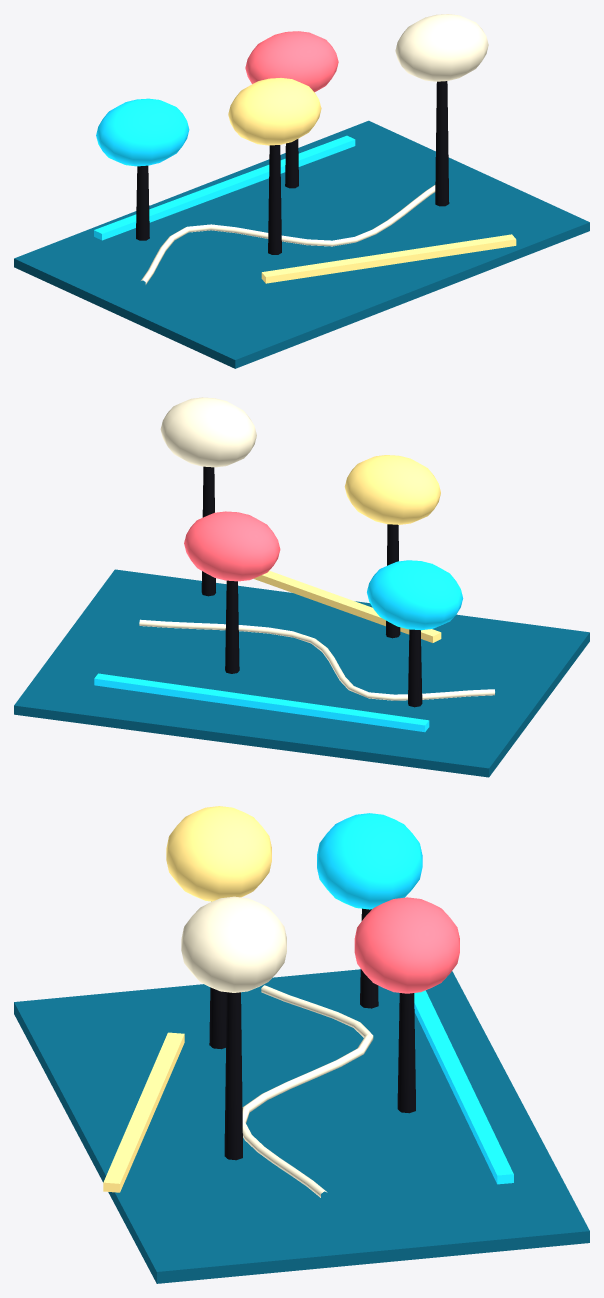
Rendered from field-marker-grove.glb.
The picture shows the model from 3 angles, top to bottom: view 1: azimuth 30°, elevation 25°; view 2: azimuth 150°, elevation 25°; view 3: azimuth 270°, elevation 25°; orthographic projection. The views are drawn at different scales.
Parts seen in each view (by area): view 1: field-shadow-pad, marker-canopy-3, marker-canopy-0, marker-canopy-1, marker-canopy-2, field-ribbon-b, field-ribbon-a, field-path-curve, marker-stem-3, marker-stem-1, marker-stem-0, marker-stem-2; view 2: field-shadow-pad, marker-canopy-2, marker-canopy-1, marker-canopy-3, marker-canopy-0, field-ribbon-a, field-path-curve, field-ribbon-b, marker-stem-2, marker-stem-0, marker-stem-3, marker-stem-1; view 3: field-shadow-pad, marker-canopy-2, marker-canopy-3, marker-canopy-1, marker-canopy-0, field-ribbon-a, field-ribbon-b, field-path-curve, marker-stem-3, marker-stem-2, marker-stem-1, marker-stem-0.
Part boxes in pixels (box(x1,y1,x2,y2)): field-shadow-pad: box(14, 120, 589, 368); marker-canopy-3: box(395, 14, 488, 81); marker-canopy-0: box(96, 98, 189, 166); marker-canopy-1: box(228, 78, 321, 145); marker-canopy-2: box(245, 31, 338, 92); field-ribbon-b: box(261, 234, 516, 283); field-ribbon-a: box(94, 135, 355, 240); field-path-curve: box(141, 185, 435, 284); marker-stem-3: box(435, 81, 449, 206); marker-stem-1: box(268, 145, 281, 254); marker-stem-0: box(136, 165, 149, 240); marker-stem-2: box(285, 139, 298, 188); field-shadow-pad: box(14, 569, 589, 777); marker-canopy-2: box(184, 511, 280, 581); marker-canopy-1: box(344, 455, 440, 524); marker-canopy-3: box(160, 397, 256, 467); marker-canopy-0: box(367, 560, 463, 630); field-ribbon-a: box(94, 673, 429, 732); field-path-curve: box(139, 619, 494, 700); field-ribbon-b: box(253, 570, 441, 642); marker-stem-2: box(225, 580, 239, 673); marker-stem-0: box(408, 629, 422, 707); marker-stem-3: box(201, 466, 215, 596); marker-stem-1: box(386, 524, 400, 638); field-shadow-pad: box(14, 969, 589, 1283); marker-canopy-2: box(354, 897, 459, 993); marker-canopy-3: box(181, 896, 286, 992); marker-canopy-1: box(166, 806, 271, 901); marker-canopy-0: box(317, 813, 422, 909); field-ribbon-a: box(414, 990, 513, 1184); field-ribbon-b: box(103, 1032, 184, 1192); field-path-curve: box(242, 985, 373, 1197); marker-stem-3: box(224, 992, 242, 1160); marker-stem-2: box(397, 993, 415, 1113); marker-stem-1: box(209, 987, 226, 1049); marker-stem-0: box(360, 908, 378, 1008).
Size of the model in its own units: 1.96 by 0.8777 by 1.53.
